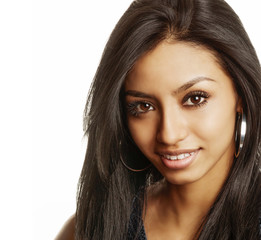young: (102, 11, 238, 186)
